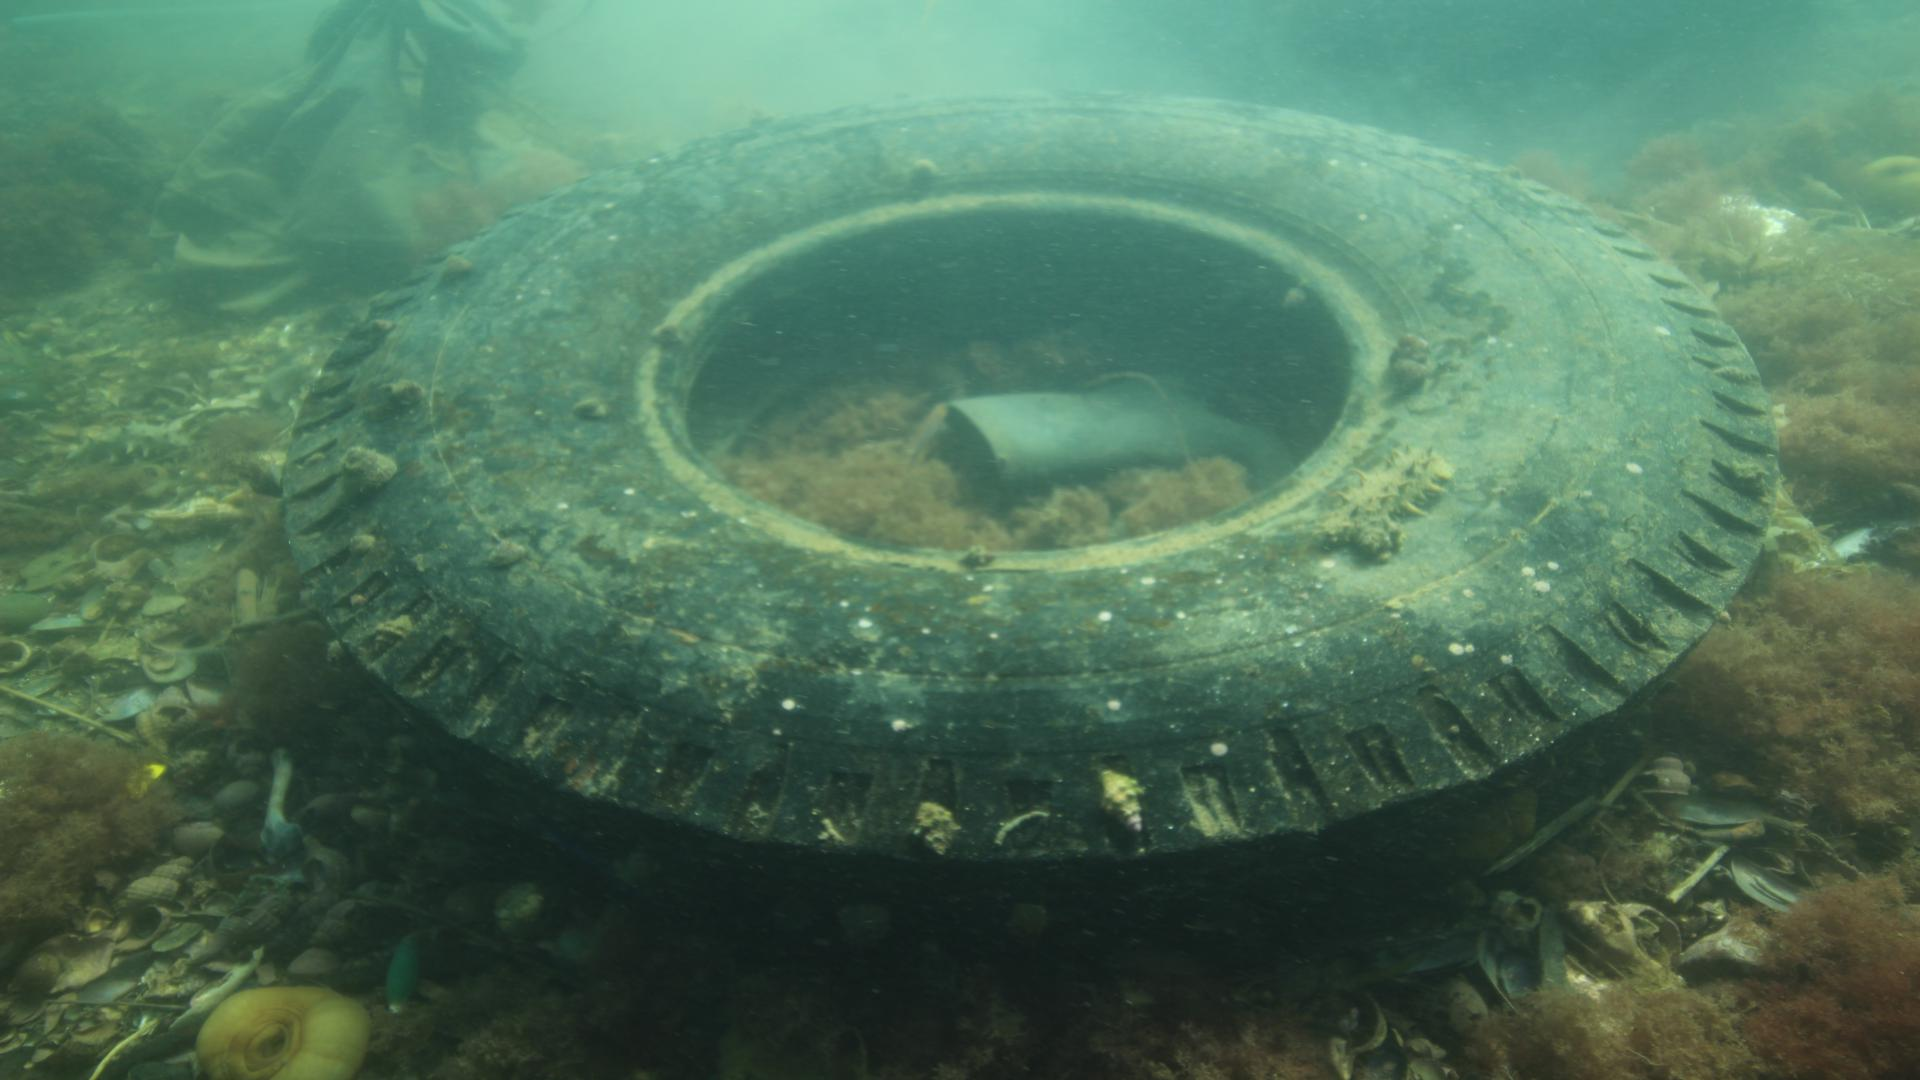tire: (277, 88, 1778, 1035)
